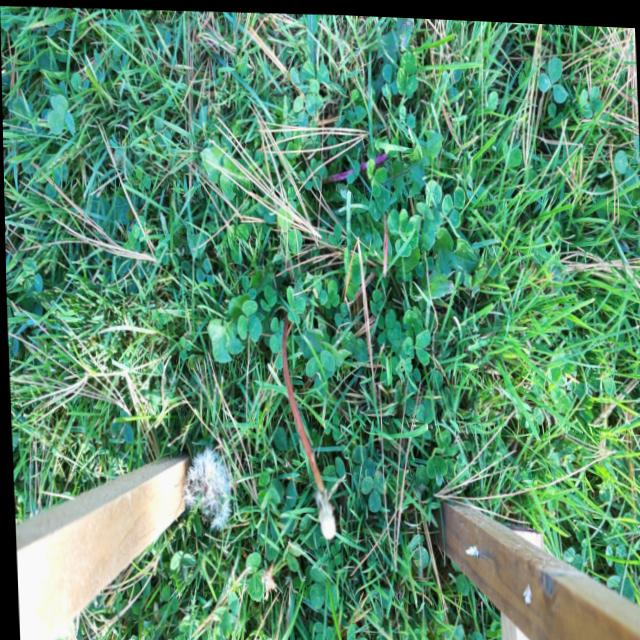base: (277, 300, 295, 333)
flower: (305, 486, 339, 543)
